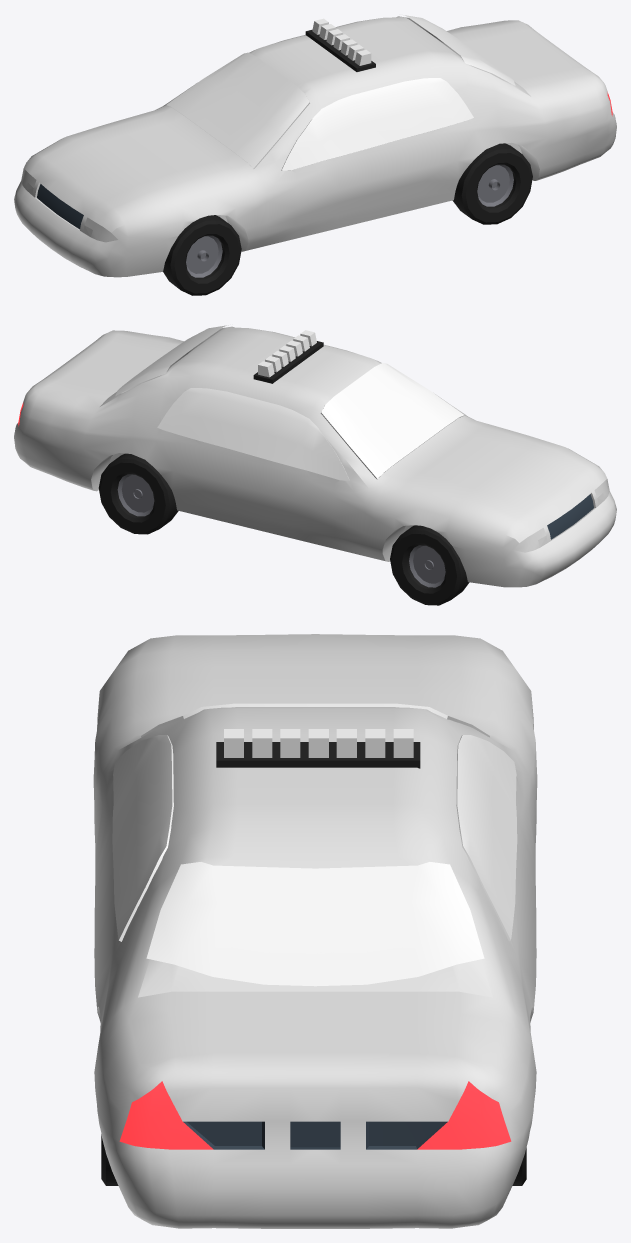
Rendered from Police Car White.dae.
3 views of the same model, one above another, from view 1: azimuth 30°, elevation 25°; view 2: azimuth 150°, elevation 25°; view 3: azimuth 270°, elevation 25° (orthographic). The views are drawn at different scales.
Parts seen in each view (by area): view 1: Body, Side Window, Cube.001, Front Wheels.001, Front Wheels, Back Window, Cube.002, Front Lights, Cube; view 2: Body, Side Window, Cube.001, Front Wheels.001, Front Wheels, Back Window, Cube.002, Front Lights, Cube; view 3: Body, Back Window, Side Window, Back Lights, Cube.002, Cube, Cube.001.
Part boxes in pixels (x1,y1,x2,y2): Body: (14,16,616,277); Side Window: (281,78,473,170); Cube.001: (166,52,309,168); Front Wheels.001: (452,143,532,224); Front Wheels: (163,215,241,295); Back Window: (403,15,515,85); Cube.002: (312,18,371,65); Front Lights: (21,168,117,242); Cube: (305,29,375,71); Body: (14,326,616,587); Side Window: (157,388,349,480); Cube.001: (320,363,464,479); Front Wheels.001: (98,453,178,534); Front Wheels: (390,525,469,605); Back Window: (115,325,228,395); Cube.002: (258,330,316,377); Front Lights: (513,479,609,552); Cube: (253,341,323,383); Body: (93,634,537,1228); Back Window: (146,862,484,986); Side Window: (112,735,517,941); Back Lights: (119,1081,511,1149); Cube.002: (224,729,413,757); Cube: (216,742,420,768); Cube.001: (141,703,489,737).
Bounding box in the file's own units: 3.29 × 1.18 × 1.01.
